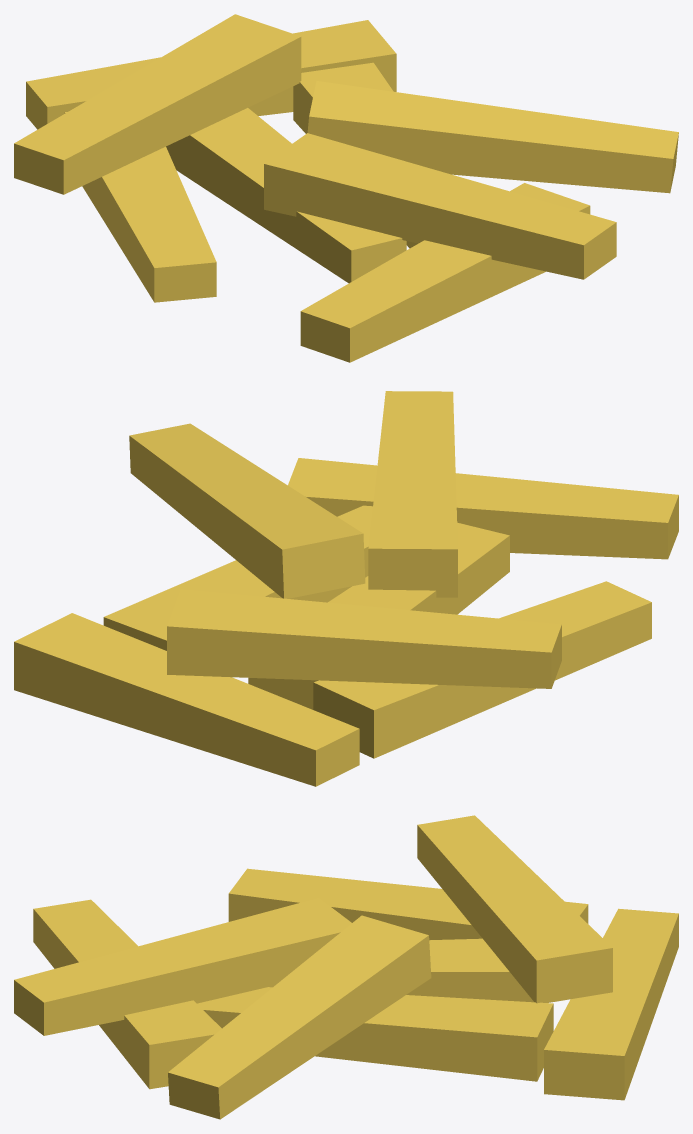
Rendered from SM_French_Fries_01.fbx.
The picture shows the model from 3 angles, top to bottom: view 1: azimuth 30°, elevation 25°; view 2: azimuth 150°, elevation 25°; view 3: azimuth 270°, elevation 25°; orthographic projection. The views are drawn at different scales.
Visible parts, largest first — view 1: SM_French_Fries_01; view 2: SM_French_Fries_01; view 3: SM_French_Fries_01.
Part boxes in pixels (x1,y1,x2,y2): SM_French_Fries_01: (14, 14, 678, 362); SM_French_Fries_01: (14, 391, 678, 786); SM_French_Fries_01: (14, 815, 678, 1119).
Size of the model in its own units: 13.5 by 2.33 by 15.1.
